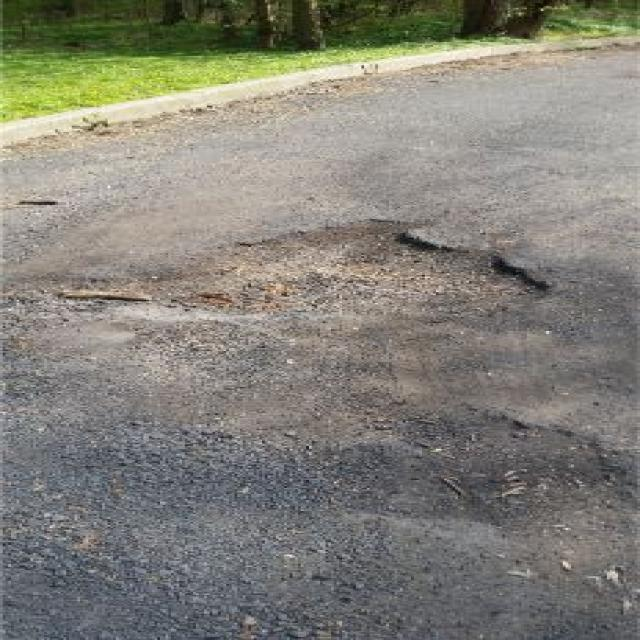pothole: (64, 212, 558, 330)
